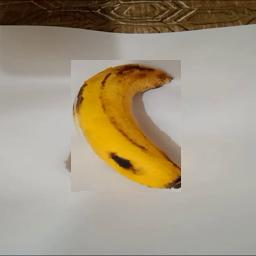Banana Semifresh: (71, 61, 181, 193)
